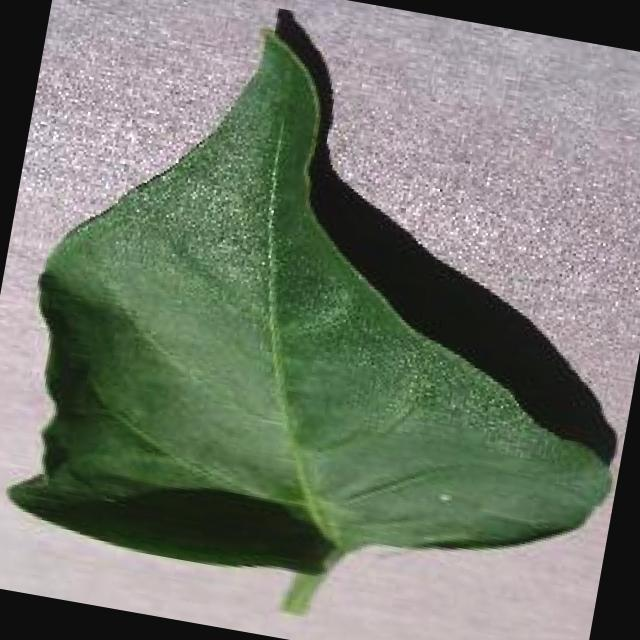Leaf: (113, 125, 598, 548)
